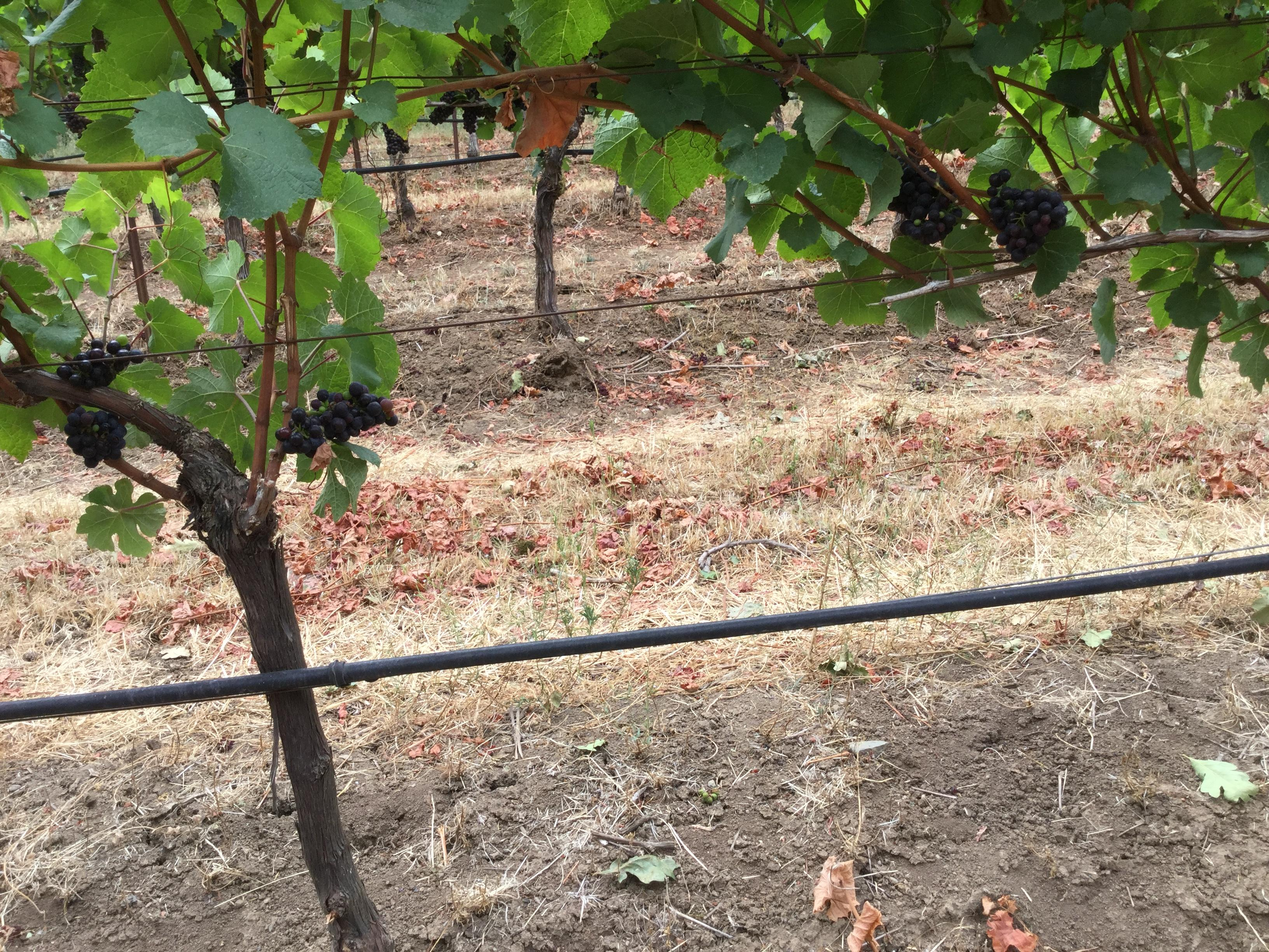leaf: (219, 103, 321, 219), (168, 350, 253, 469), (881, 51, 995, 125), (628, 130, 720, 218), (77, 478, 164, 556), (149, 200, 213, 306), (509, 0, 610, 66), (622, 60, 704, 138), (202, 242, 263, 339), (329, 174, 386, 277), (600, 4, 697, 60), (129, 90, 208, 156), (814, 257, 886, 325), (1094, 144, 1171, 204), (864, 0, 946, 53), (313, 444, 368, 521), (704, 179, 752, 262), (0, 400, 64, 462), (133, 297, 204, 352), (1033, 225, 1086, 296), (3, 93, 65, 153), (1045, 58, 1108, 115), (971, 18, 1042, 68), (340, 334, 399, 392), (63, 172, 119, 233), (799, 84, 849, 151), (831, 124, 887, 182), (79, 114, 145, 163), (378, 0, 472, 33), (332, 275, 384, 333), (724, 135, 786, 183), (1165, 281, 1221, 329), (111, 361, 172, 404), (1231, 322, 1268, 392), (97, 170, 159, 208), (1082, 2, 1134, 47), (1091, 278, 1117, 363), (352, 80, 397, 124), (778, 213, 820, 251), (1248, 124, 1268, 203), (1187, 327, 1209, 397), (636, 140, 643, 147), (886, 194, 892, 201), (231, 242, 238, 247), (1140, 14, 1145, 20), (1140, 22, 1144, 25), (895, 190, 897, 193), (247, 278, 249, 280), (90, 127, 91, 130), (336, 172, 337, 173), (261, 110, 264, 110)
